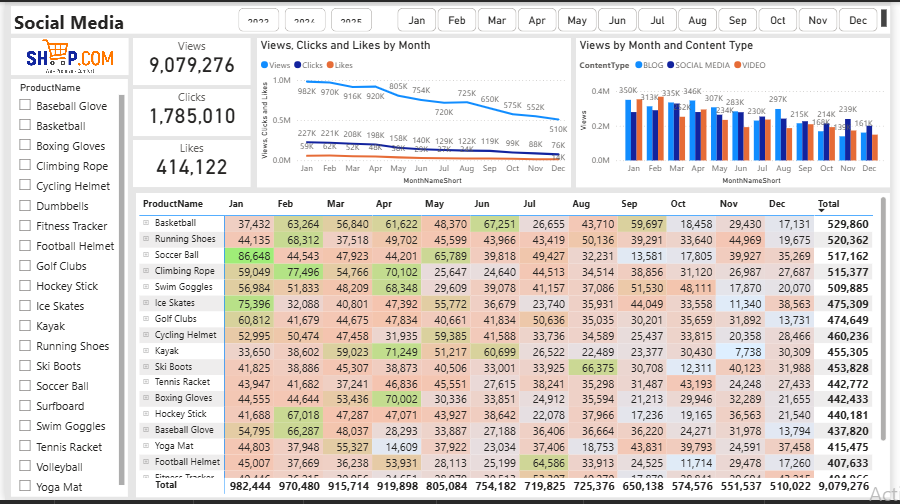

The page's visual inventory and layout, read from the dashboard file:
{"tool":"powerbi","page":{"name":"Social Media","canvas":[1280,720],"ordinal":2},"visuals":[{"type":"textbox","box":[8.7,5.5,1271.3,40.2],"z":0},{"type":"slicer","fields":{"Values":["dim_products.ProductName"]},"box":[8.8,111.8,169.4,603.5],"z":2000},{"type":"cardVisual","fields":{"Data":["_Calculations.Views"]},"box":[184.7,51.8,170,68.2],"z":3000},{"type":"cardVisual","fields":{"Data":["_Calculations.Clicks"]},"box":[184.7,125.9,170,68.2],"z":4000},{"type":"cardVisual","fields":{"Data":["_Calculations.Likes"]},"box":[184.7,199.4,170,68.2],"z":5000},{"type":"advancedSlicerVisual","fields":{"Values":["Calendar.Year"]},"box":[332.3,9.1,198.8,39.4],"z":6000},{"type":"advancedSlicerVisual","fields":{"Values":["Calendar.MonthNameShort"]},"box":[562.9,9,710,39],"z":7000},{"type":"lineChart","title":"Views, Clicks and Likes by Month","fields":{"Y":["_Calculations.Views","_Calculations.Clicks","_Calculations.Likes"],"Category":["Calendar.MonthNameShort"]},"box":[364,52,454,216],"z":8000},{"type":"clusteredColumnChart","title":"Views by Month and Content Type","fields":{"Category":["Calendar.MonthNameShort"],"Y":["_Calculations.Views"],"Series":["fact_engagement_data.ContentType"]},"box":[826,52,454,216],"z":9000},{"type":"pivotTable","fields":{"Rows":["dim_products.ProductName","fact_engagement_data.ContentType"],"Columns":["Calendar.MonthNameShort"],"Values":["_Calculations.Views"]},"box":[190,276,1090,440],"z":10000},{"type":"actionButton","box":[8.8,51.8,170,53.5],"z":11000}]}

Visuals, with their boxes in screenshot pixels (x1, y1, x2, y2), scaled from the page's 1280x720 canvas onto the 900x504 screenshot:
textbox: select_region(6, 4, 899, 32)
slicer - dim_products.ProductName: select_region(6, 78, 125, 501)
cardVisual - _Calculations.Views: select_region(130, 36, 249, 84)
cardVisual - _Calculations.Clicks: select_region(130, 88, 249, 136)
cardVisual - _Calculations.Likes: select_region(130, 140, 249, 187)
advancedSlicerVisual - Calendar.Year: select_region(234, 6, 373, 34)
advancedSlicerVisual - Calendar.MonthNameShort: select_region(396, 6, 895, 34)
"Views, Clicks and Likes by Month" lineChart: select_region(256, 36, 575, 188)
"Views by Month and Content Type" clusteredColumnChart: select_region(581, 36, 899, 188)
pivotTable - dim_products.ProductName x fact_engagement_data.ContentType: select_region(134, 193, 899, 501)
actionButton: select_region(6, 36, 126, 74)
